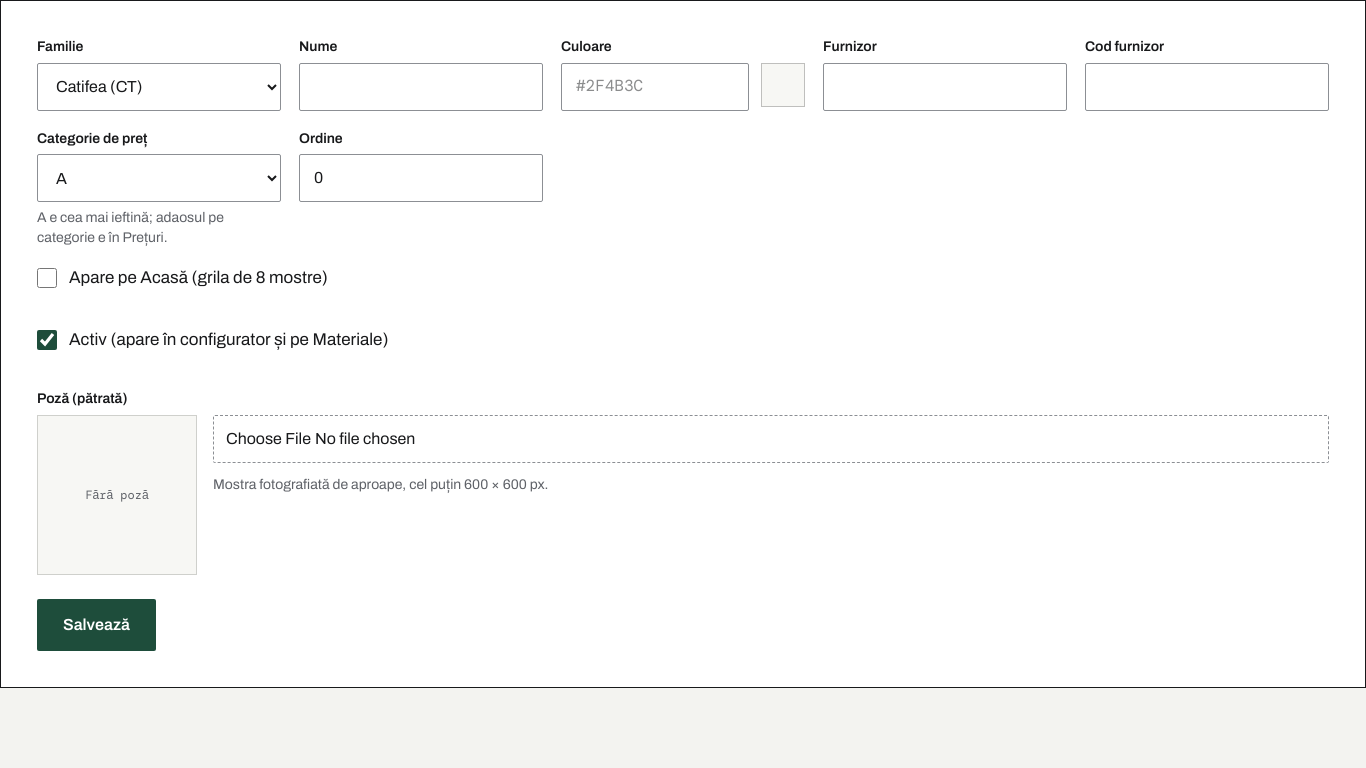
MaterialForm for a new material › posts every field to the action, keeps the typed values and shows the notice
Step 1. Select "Bouclé (BC)" in the dropdown labelled "Familie" → (159, 87), box [37,63,281,111]
Step 2. Type "Nisip" into the field labelled "Nume" → (421, 87), box [299,63,543,111]
Step 3. Type "#cdbfa6" into the field labelled "Culoare" → (655, 87), box [561,63,749,111]
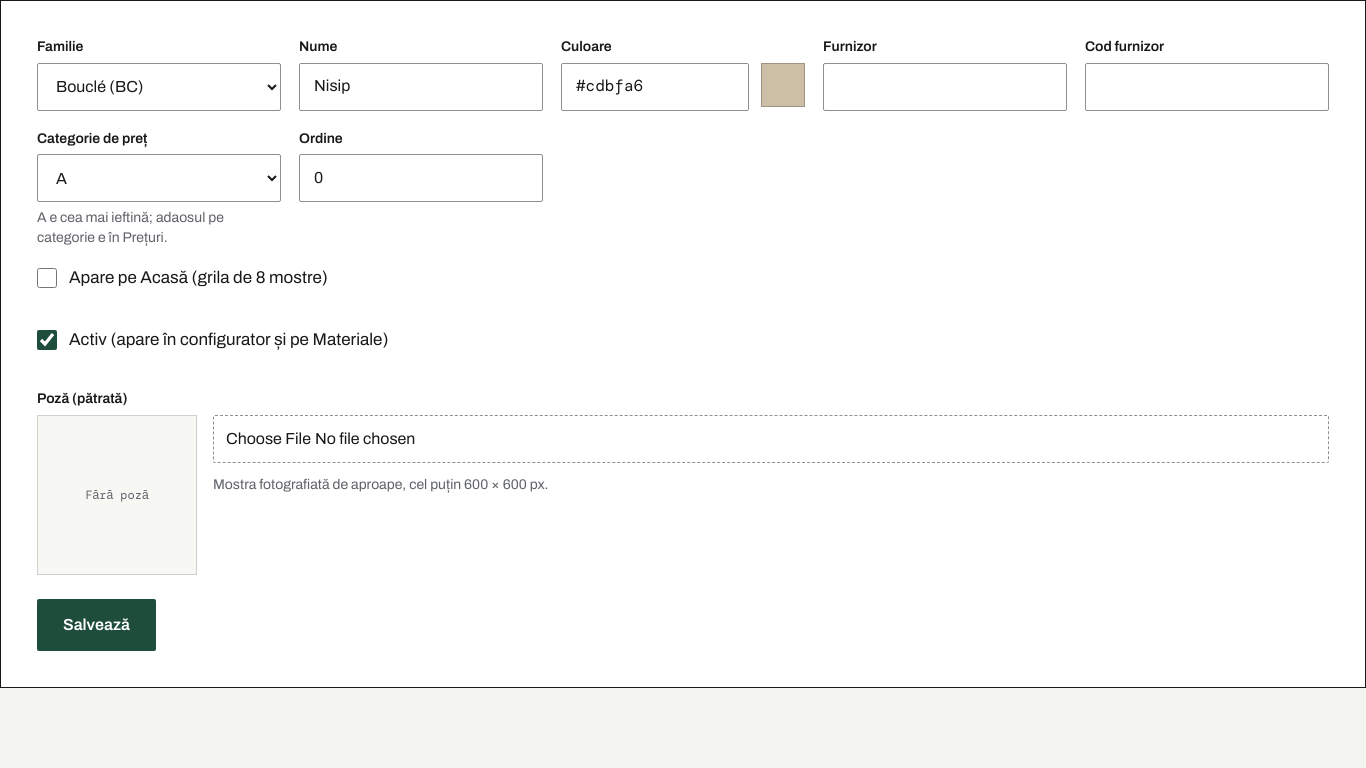
Step 4. Type "Textil SRL" into the field labelled "Furnizor" → (945, 87), box [823,63,1067,111]
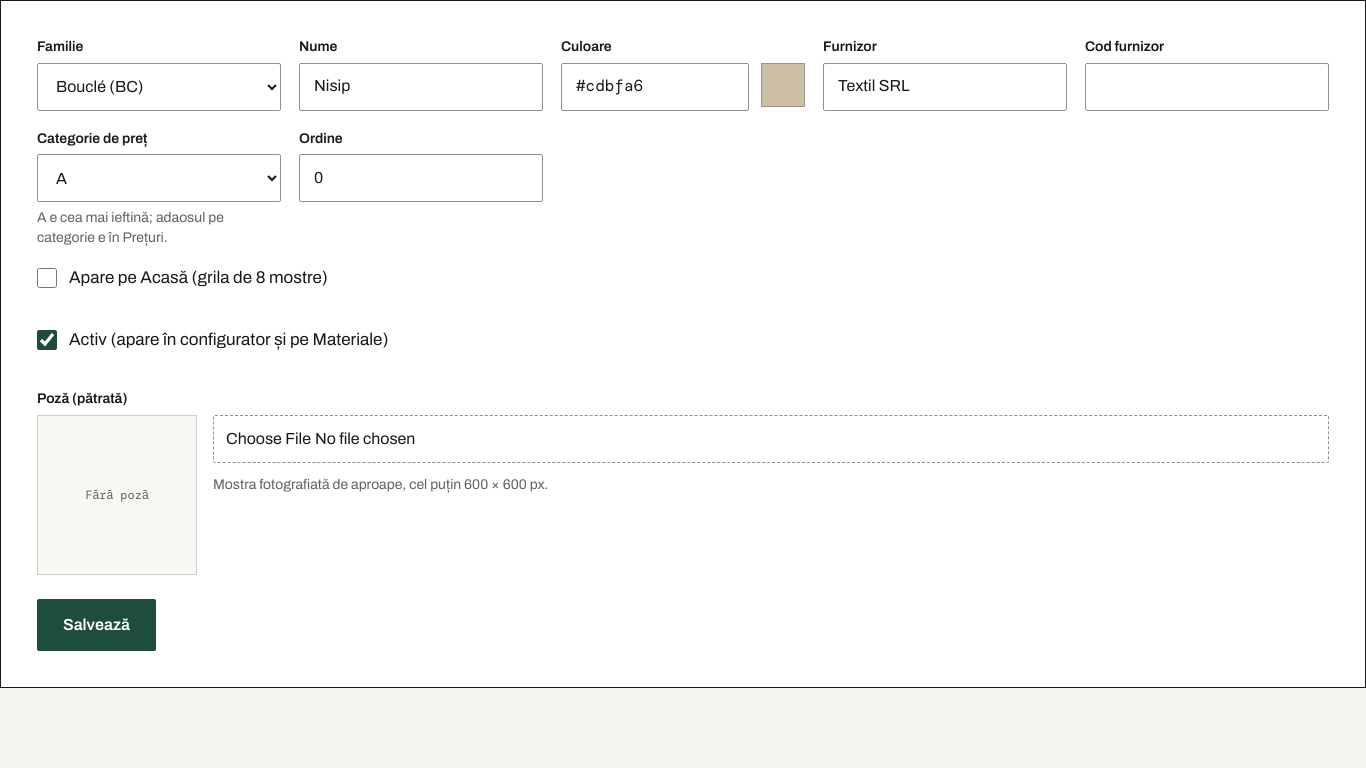
Step 5. Select "C" in the dropdown labelled "Categorie de preț" → (159, 178), box [37,154,281,202]
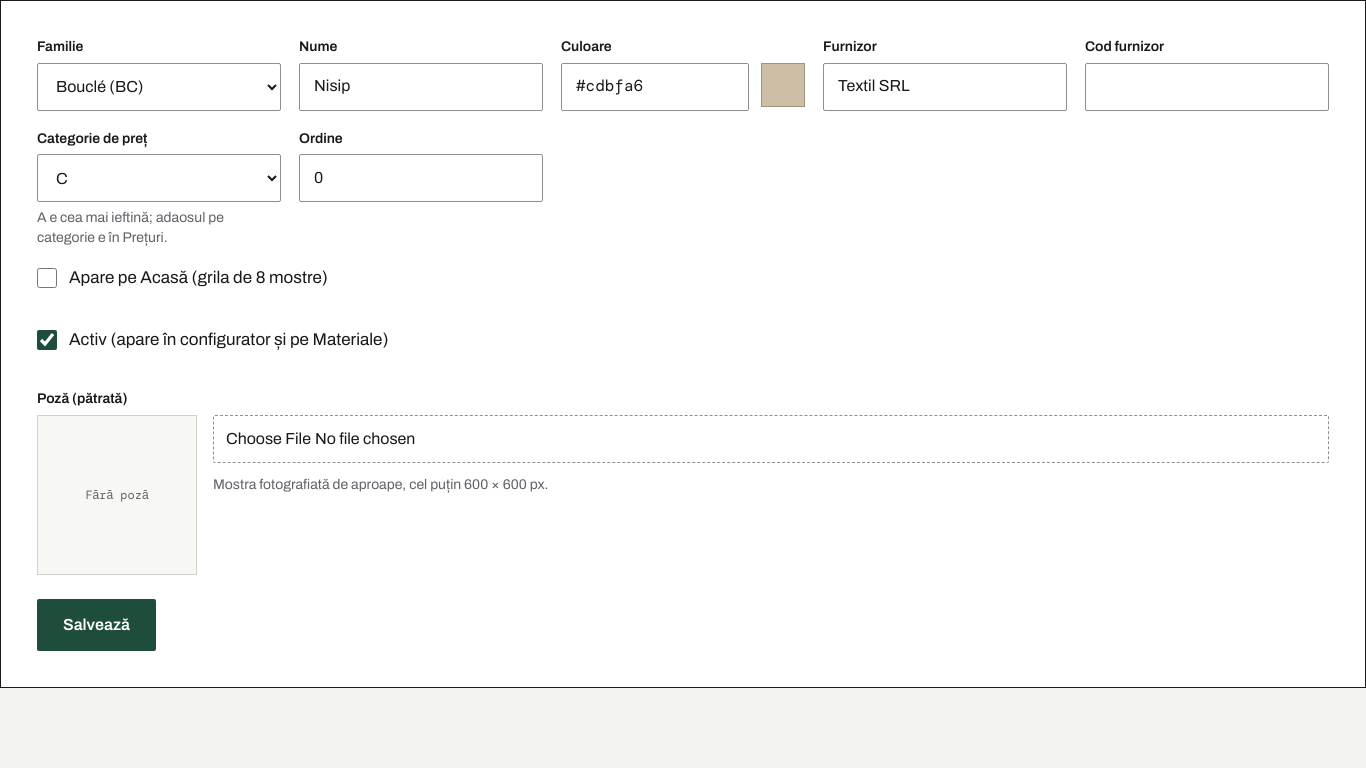
Step 6. Replace the text in the number field labelled "Ordine" with "4" → (421, 178), box [299,154,543,202]
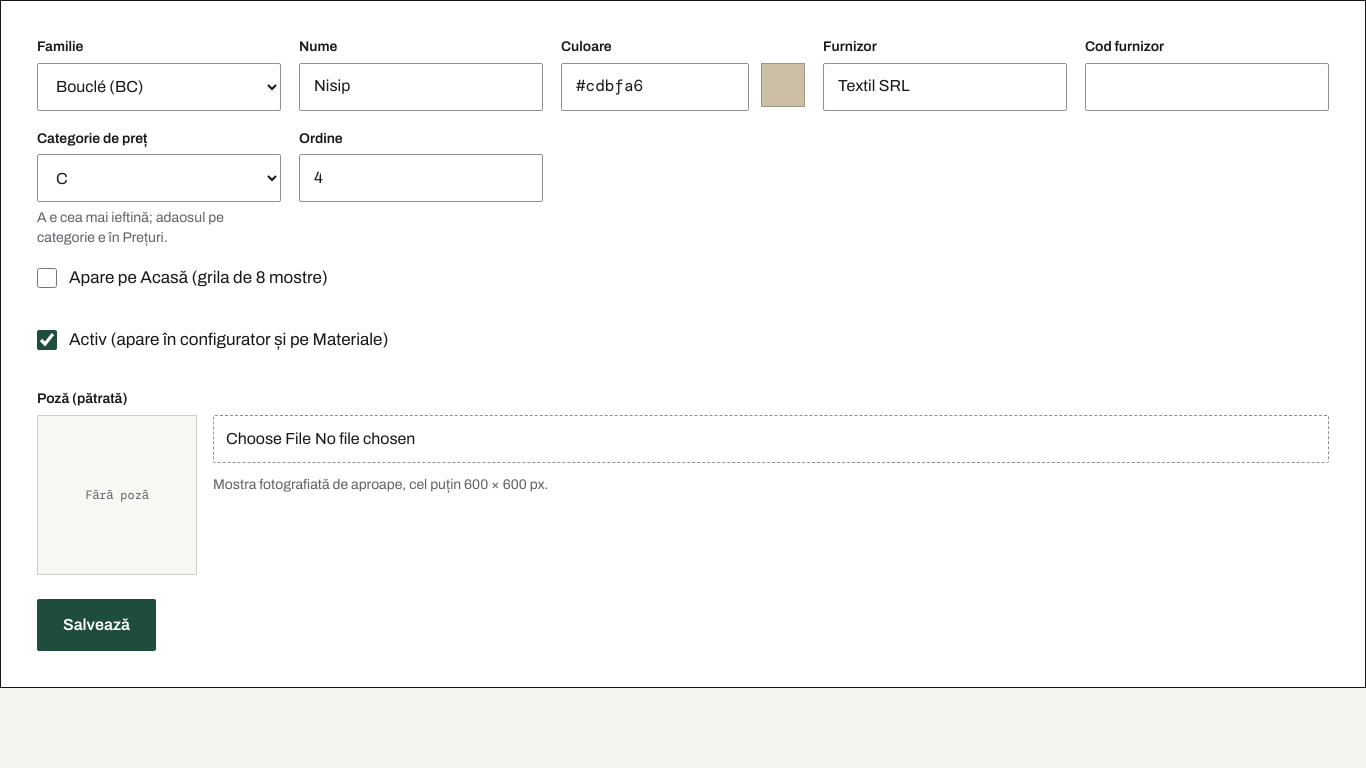
Step 7. Click the checkbox labelled "Apare pe Acasă (grila de 8 mostre)" → (47, 278), box [37,268,57,288]
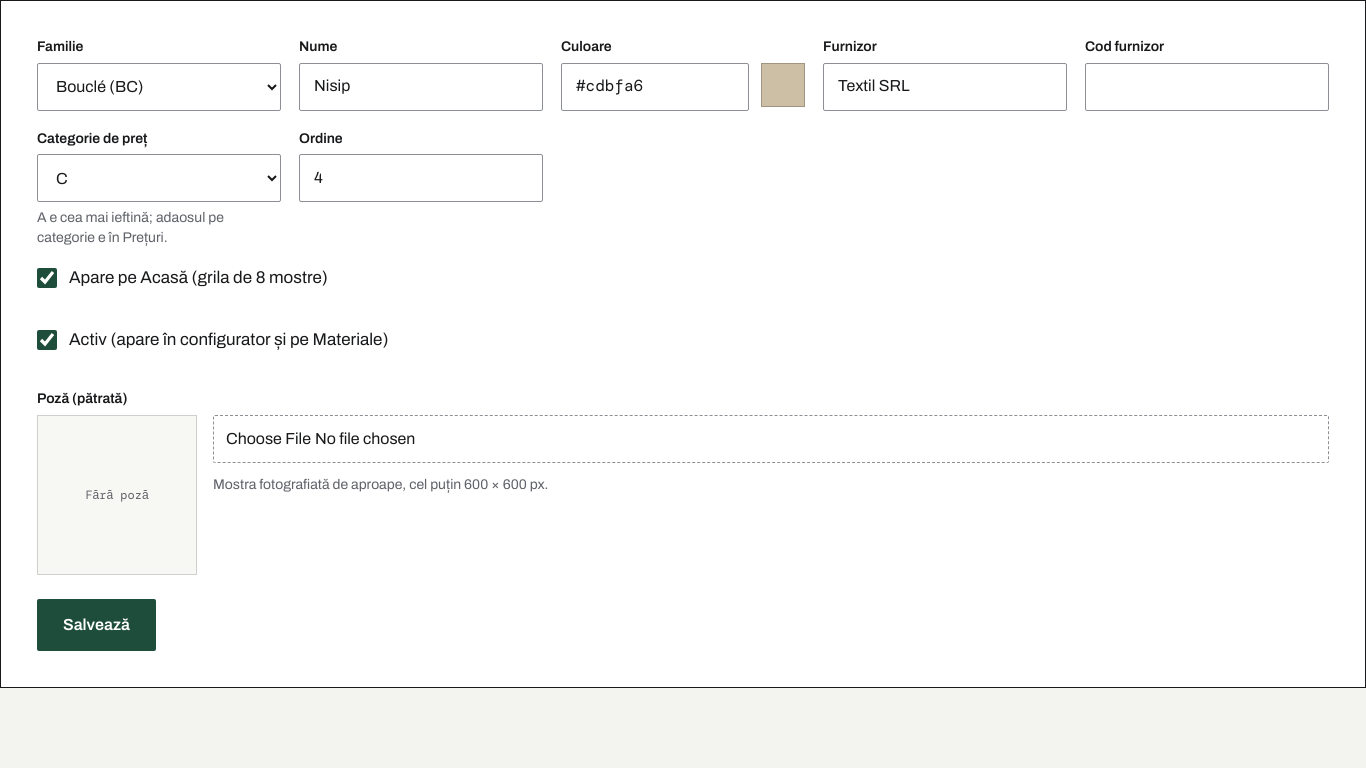
Step 8. Click the button "Salvează" → (96, 625), box [37,599,156,651]
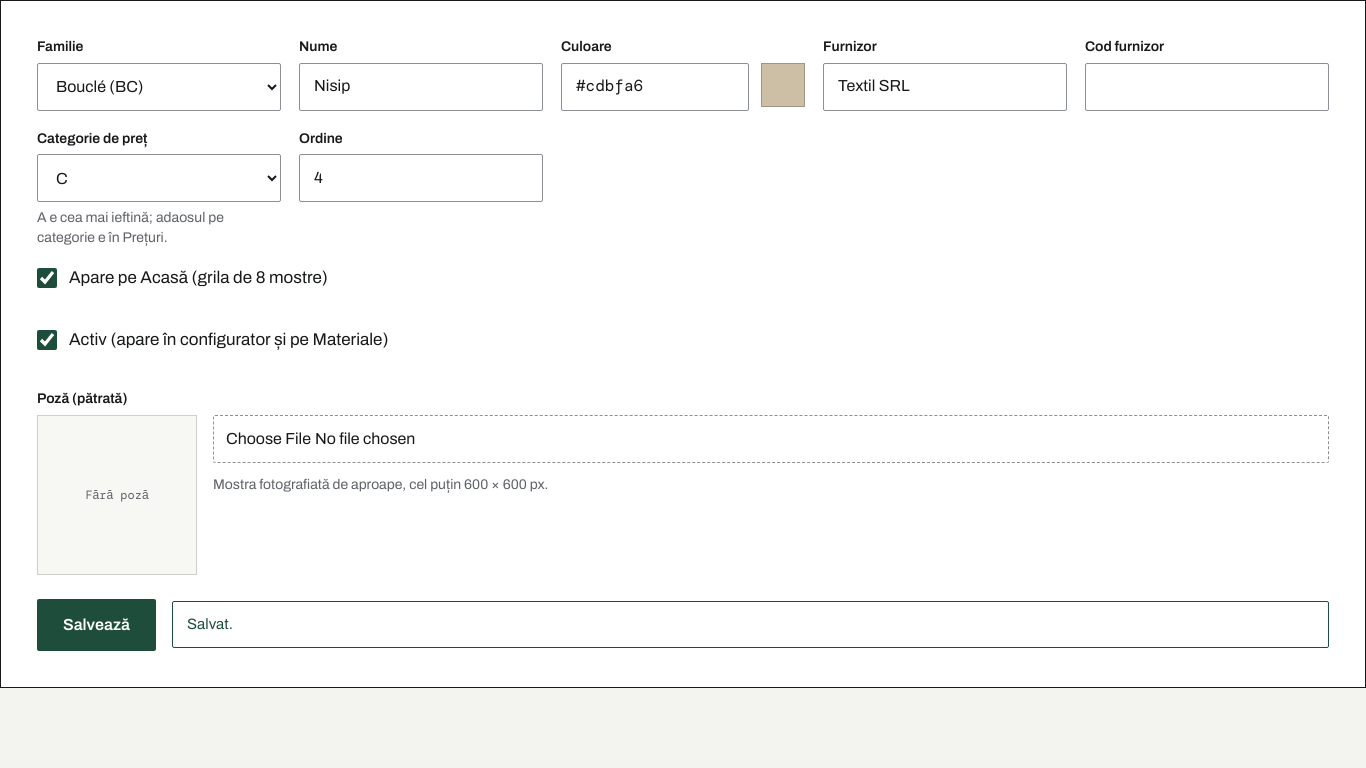
Check: the message reads "Salvat.", box [187,616,233,632]
